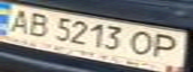1: (84, 20, 106, 50)
2: (66, 18, 90, 47)
3: (103, 23, 130, 53)
5: (48, 15, 75, 43)
A: (0, 6, 36, 35)
B: (21, 10, 54, 38)
O: (124, 28, 160, 57)
P: (145, 32, 187, 61)
